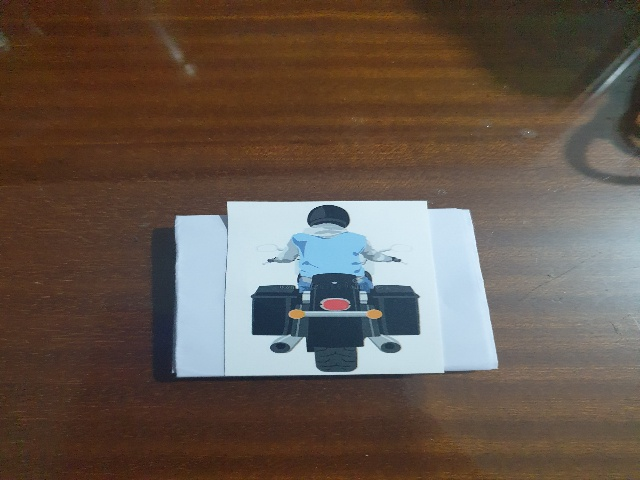Motorcycle: (243, 204, 427, 371)
